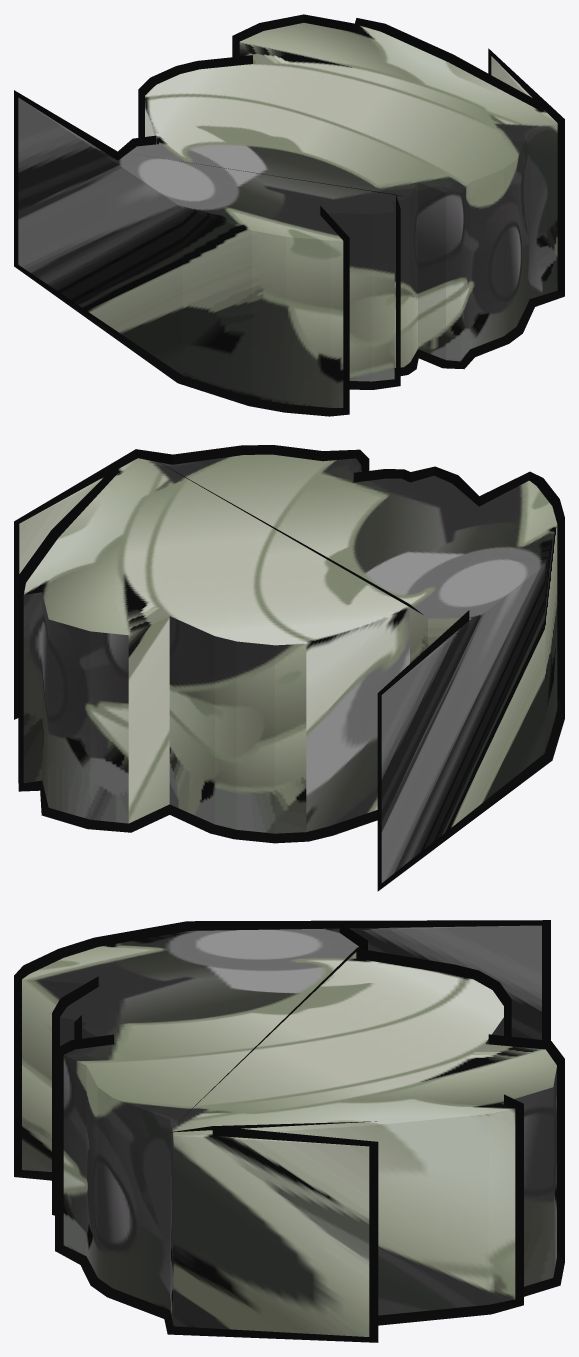
The model's file is Building_AncientExostriderHead_Things_Building_Ruins_AncientExostrider_AncientExostriderHead.glb.
The picture shows the model from 3 angles, top to bottom: view 1: azimuth 30°, elevation 25°; view 2: azimuth 150°, elevation 25°; view 3: azimuth 270°, elevation 25°; orthographic projection. The views are drawn at different scales.
Parts seen in each view (by area): view 1: Body, Outline; view 2: Body, Outline; view 3: Body, Outline.
Boxes of the visible parts, bbox=[...] form: Body: bbox=[18, 23, 557, 407]; Outline: bbox=[14, 14, 564, 416]; Body: bbox=[19, 454, 557, 882]; Outline: bbox=[14, 445, 564, 891]; Body: bbox=[22, 925, 556, 1336]; Outline: bbox=[14, 920, 564, 1342].
Bounding box in the file's own units: 1.93 × 0.8511 × 2.03.
2 materials, 1 textured.
